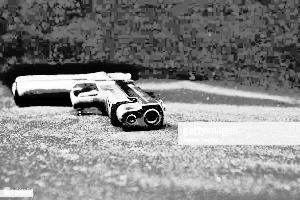handgun: (12, 58, 176, 122)
